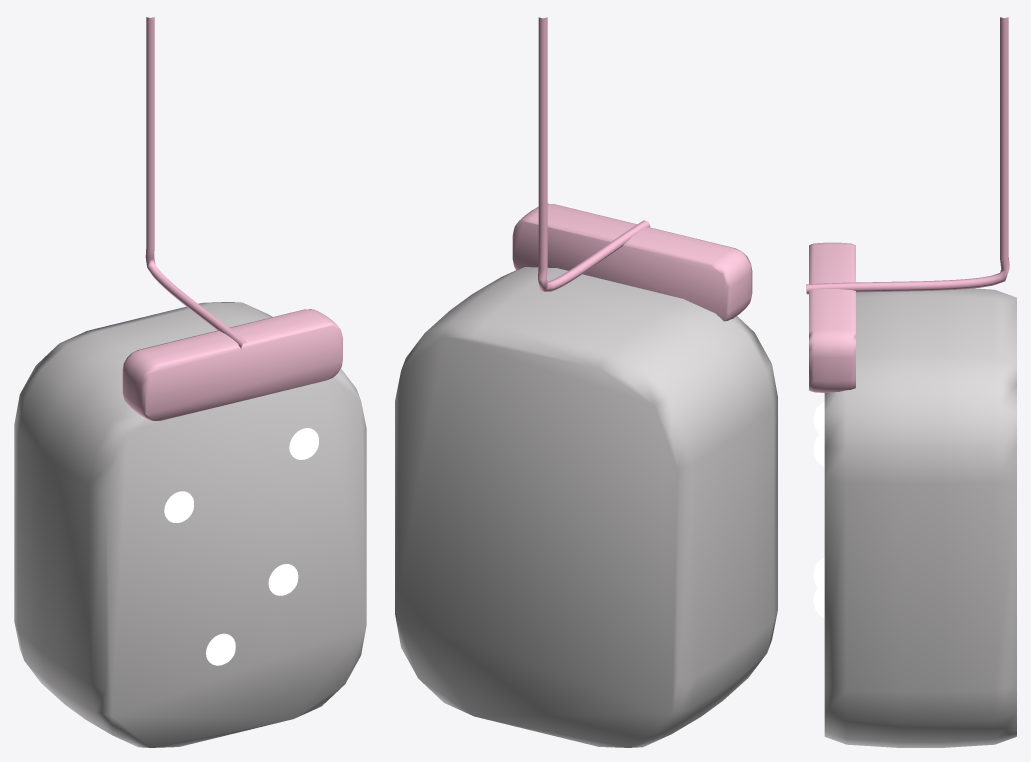
Rendered from decor_3_candy.glb.
3 renders of one model, left to right at view 1: azimuth 30°, elevation 25°; view 2: azimuth 150°, elevation 25°; view 3: azimuth 270°, elevation 25°, orthographic. The views are drawn at different scales.
Visible parts, largest first — view 1: decor_3_candy; view 2: decor_3_candy; view 3: decor_3_candy.
Boxes of the visible parts, <box> form: decor_3_candy: <box>14,17,366,747</box>; decor_3_candy: <box>395,17,777,747</box>; decor_3_candy: <box>806,17,1016,747</box>.
Size of the model in its own units: 5.35 by 12.17 by 3.36.
